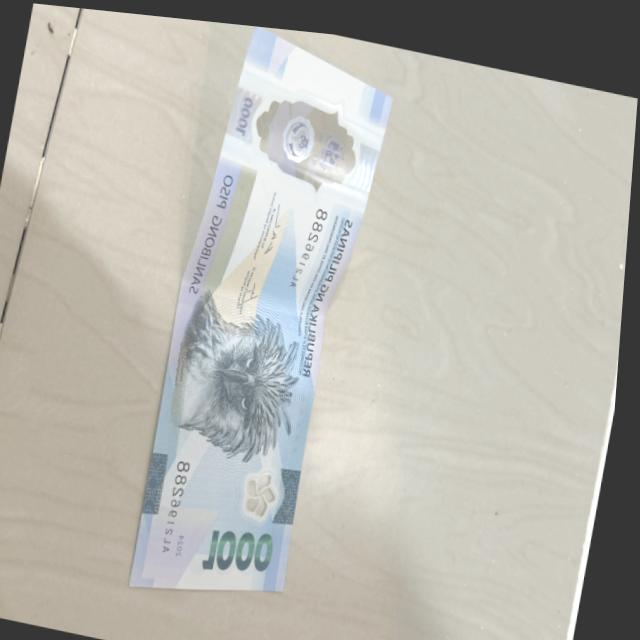eagle: (167, 284, 322, 469)
sampaguita: (246, 463, 284, 514)
serial_number: (231, 56, 382, 197), (293, 190, 330, 292)
